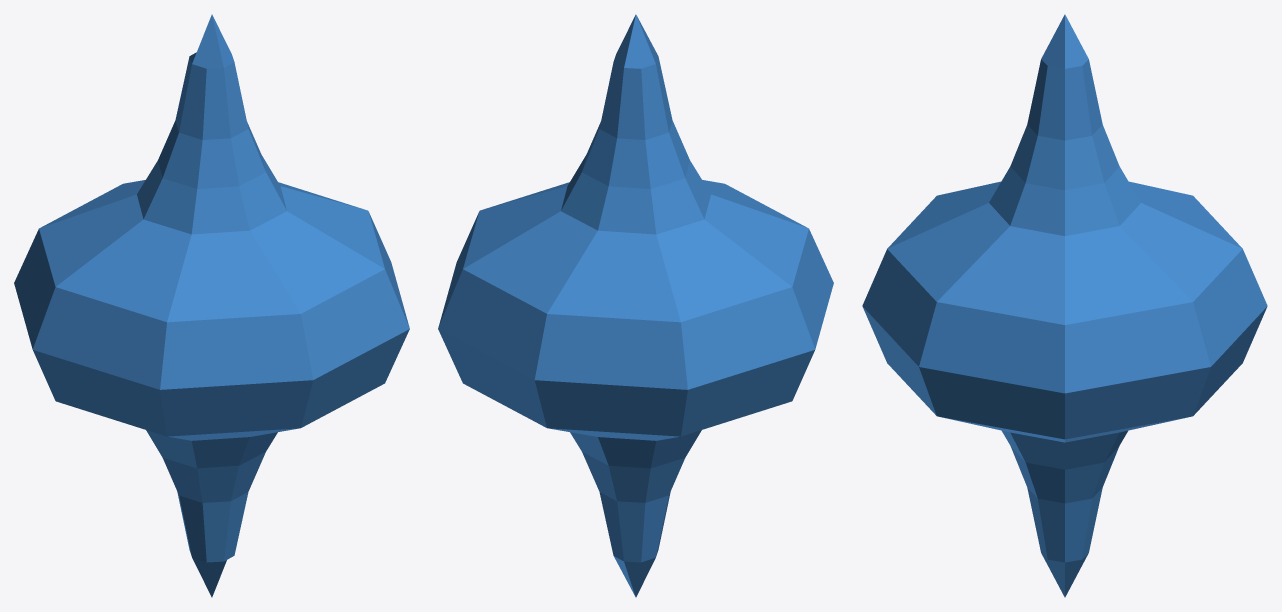
Rendered from seed3.fbx.
The picture shows the model from 3 angles, left to right: view 1: azimuth 30°, elevation 25°; view 2: azimuth 150°, elevation 25°; view 3: azimuth 270°, elevation 25°; orthographic projection.
Parts seen in each view (by area): view 1: Cube; view 2: Cube; view 3: Cube.
Boxes of the visible parts, x1=… form: Cube: x1=14, y1=14, x2=409, y2=597; Cube: x1=438, y1=14, x2=833, y2=597; Cube: x1=862, y1=14, x2=1267, y2=597.
Bounding box in the file's own units: 7.57 × 11.78 × 7.41.
